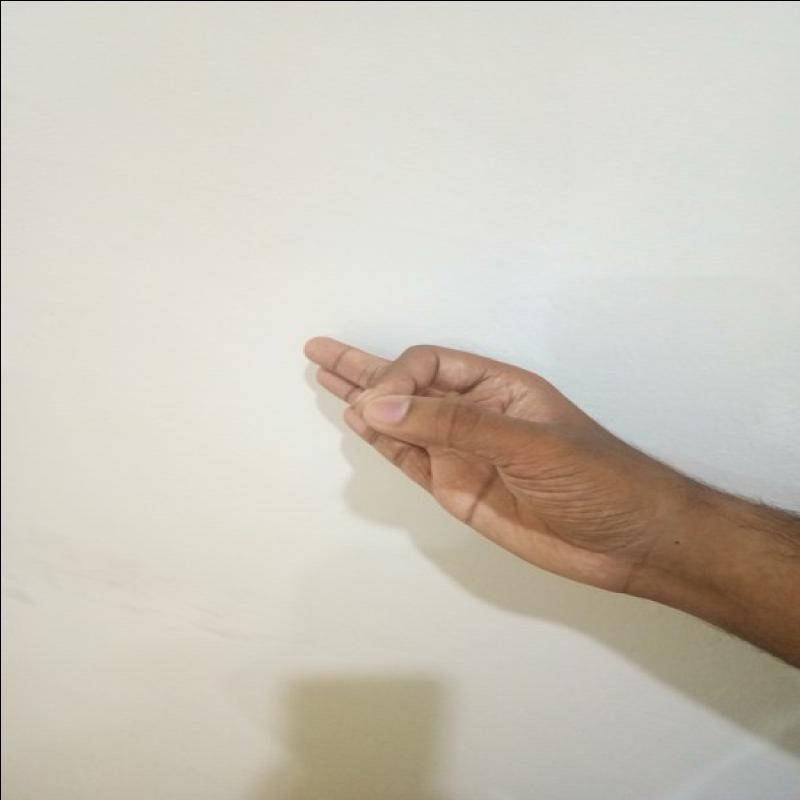Mudraakhyam: (259, 305, 689, 589)
